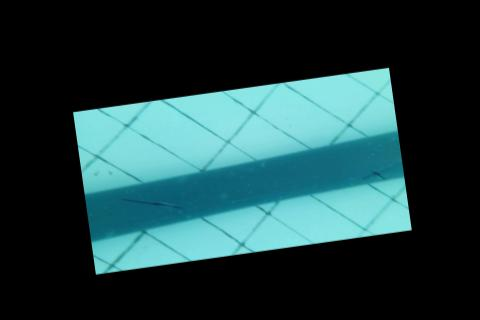keretakan: (119, 189, 181, 217), (351, 166, 399, 184)
